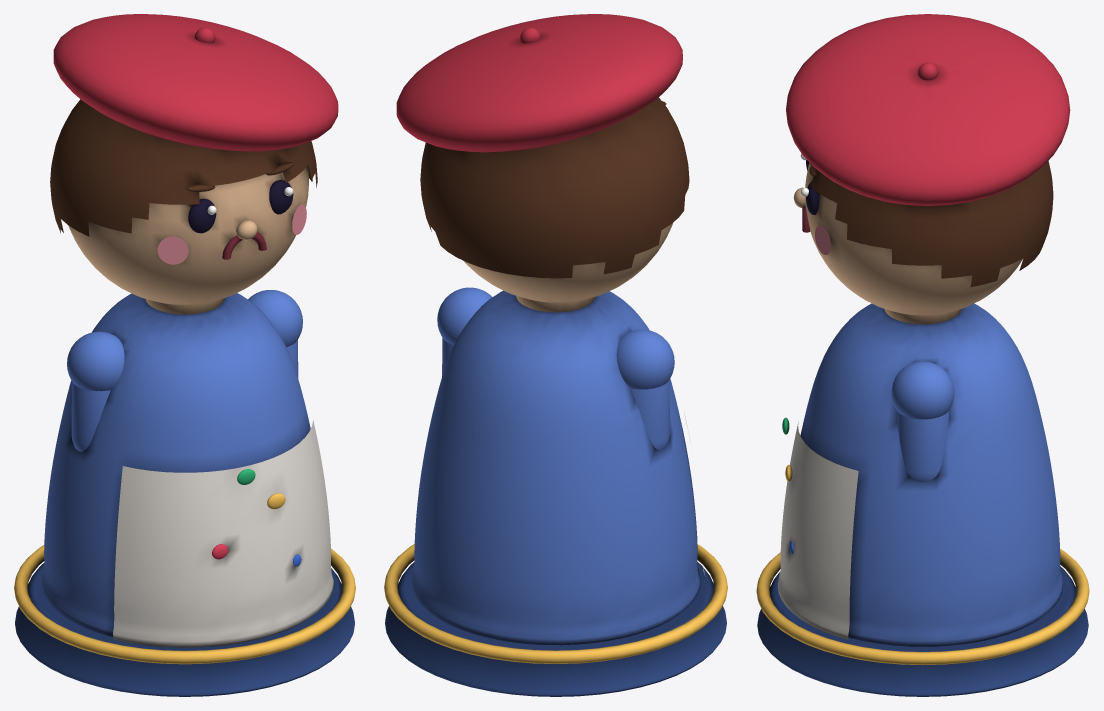
Rendered from crew4.glb.
The picture shows the model from 3 angles, left to right: view 1: azimuth 30°, elevation 25°; view 2: azimuth 150°, elevation 25°; view 3: azimuth 270°, elevation 25°; orthographic projection. The views are drawn at different scales.
Visible parts, largest first — view 1: part_body.001, part_apron, part_beret, part_hair, part_head.001, part_base, part_rim, part_cap_R, part_cap_L, part_upper_R, part_cheek_R, eye_R (+2 smaller); view 2: part_body.001, part_hair, part_beret, part_base, part_rim, part_head.001, part_cap_R, part_cap_L, part_upper_R, part_neck; view 3: part_body.001, part_beret, part_hair, part_base, part_apron, part_head.001, part_rim, part_cap_L, part_upper_L, part_neck.
Part boxes in pixels (left/top/right/bottom): part_body.001: left=41, top=293, right=310, bottom=636; part_apron: left=112, top=420, right=333, bottom=647; part_beret: left=53, top=14, right=338, bottom=151; part_hair: left=50, top=99, right=317, bottom=236; part_head.001: left=68, top=165, right=308, bottom=304; part_base: left=15, top=563, right=354, bottom=696; part_rim: left=14, top=545, right=355, bottom=664; part_cap_R: left=67, top=331, right=124, bottom=391; part_cap_L: left=248, top=290, right=302, bottom=346; part_upper_R: left=71, top=381, right=110, bottom=451; part_cheek_R: left=157, top=236, right=188, bottom=264; eye_R: left=188, top=198, right=216, bottom=233; part_body.001: left=411, top=290, right=700, bottom=645; part_hair: left=420, top=97, right=689, bottom=278; part_beret: left=396, top=14, right=682, bottom=152; part_base: left=385, top=562, right=726, bottom=696; part_rim: left=384, top=544, right=727, bottom=663; part_head.001: left=464, top=223, right=672, bottom=302; part_cap_R: left=616, top=329, right=674, bottom=389; part_cap_L: left=437, top=287, right=492, bottom=344; part_upper_R: left=630, top=380, right=669, bottom=450; part_neck: left=516, top=296, right=595, bottom=312; part_body.001: left=800, top=303, right=1062, bottom=646; part_beret: left=786, top=14, right=1070, bottom=205; part_hair: left=810, top=161, right=1053, bottom=287; part_base: left=757, top=566, right=1088, bottom=696; part_apron: left=778, top=421, right=858, bottom=640; part_head.001: left=805, top=163, right=1022, bottom=315; part_rim: left=756, top=549, right=1089, bottom=665; part_cap_L: left=891, top=361, right=954, bottom=419; part_upper_L: left=896, top=410, right=949, bottom=481; part_neck: left=884, top=309, right=961, bottom=324.
Bounding box in the file's own units: 0.656 × 1.25 × 0.656.
